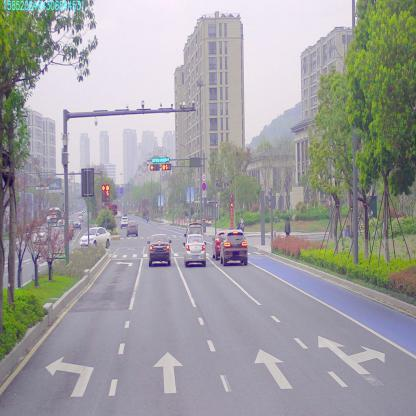traffic-light: (161, 162, 170, 172), (152, 157, 169, 162), (150, 164, 157, 167)
